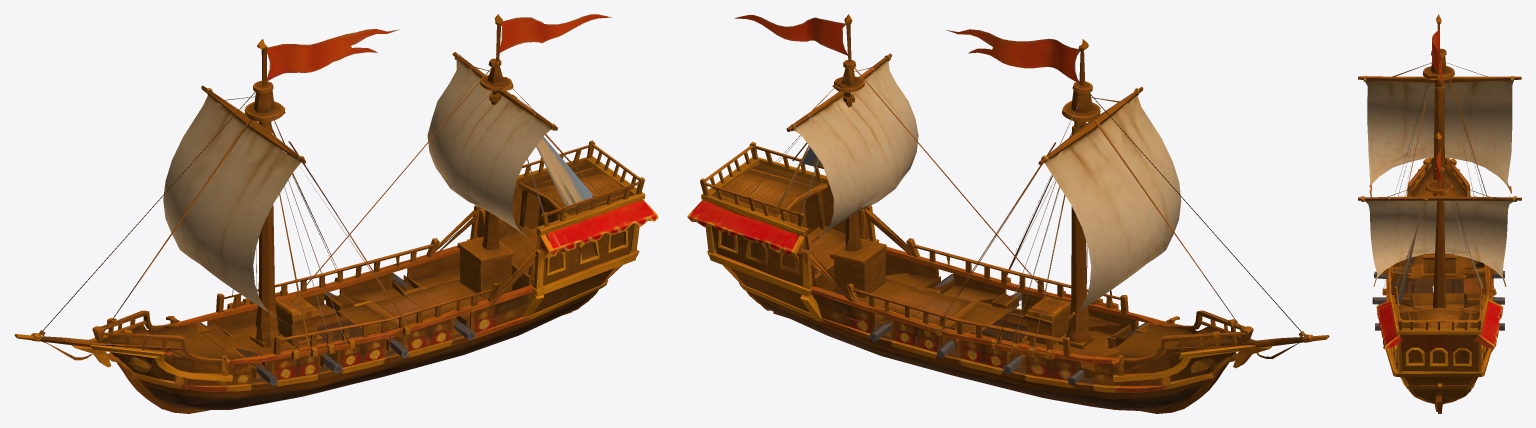
Rendered from maratha_navy_gurab.glb.
3 views of the same model, side by side, from view 1: azimuth 30°, elevation 25°; view 2: azimuth 150°, elevation 25°; view 3: azimuth 270°, elevation 25° (orthographic). The views are drawn at different scales.
Visible parts, largest first — view 1: mesh_000; view 2: mesh_000; view 3: mesh_000.
Boxes of the visible parts, x1,y1,x2,y2 form: mesh_000: (14, 14, 658, 413); mesh_000: (687, 14, 1329, 413); mesh_000: (1358, 14, 1521, 413).
Bounding box in the file's own units: 0.9609 × 0.5405 × 0.2808.
1 material, 1 textured.
